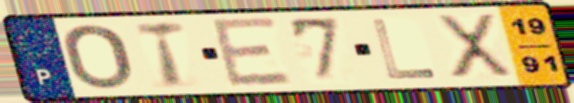7: (286, 16, 345, 86)
E: (207, 16, 297, 91)
L: (368, 18, 440, 81)
O: (60, 22, 136, 92)
T: (132, 19, 190, 90)
X: (433, 11, 518, 81)
